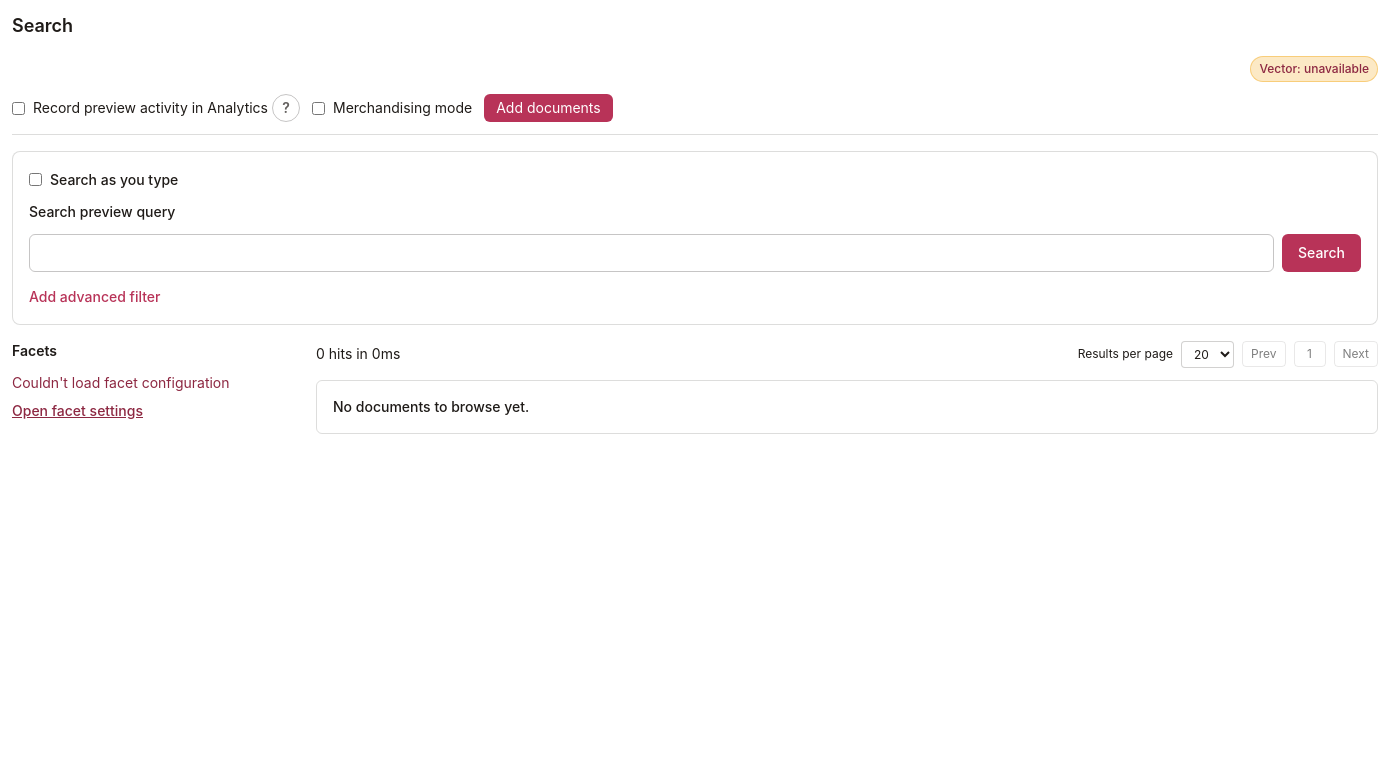
it: SearchTab › preserves merch mode ON across query re-renders
Click the checkbox labelled "Merchandising mode" at (318, 108), box [312,102,325,114]
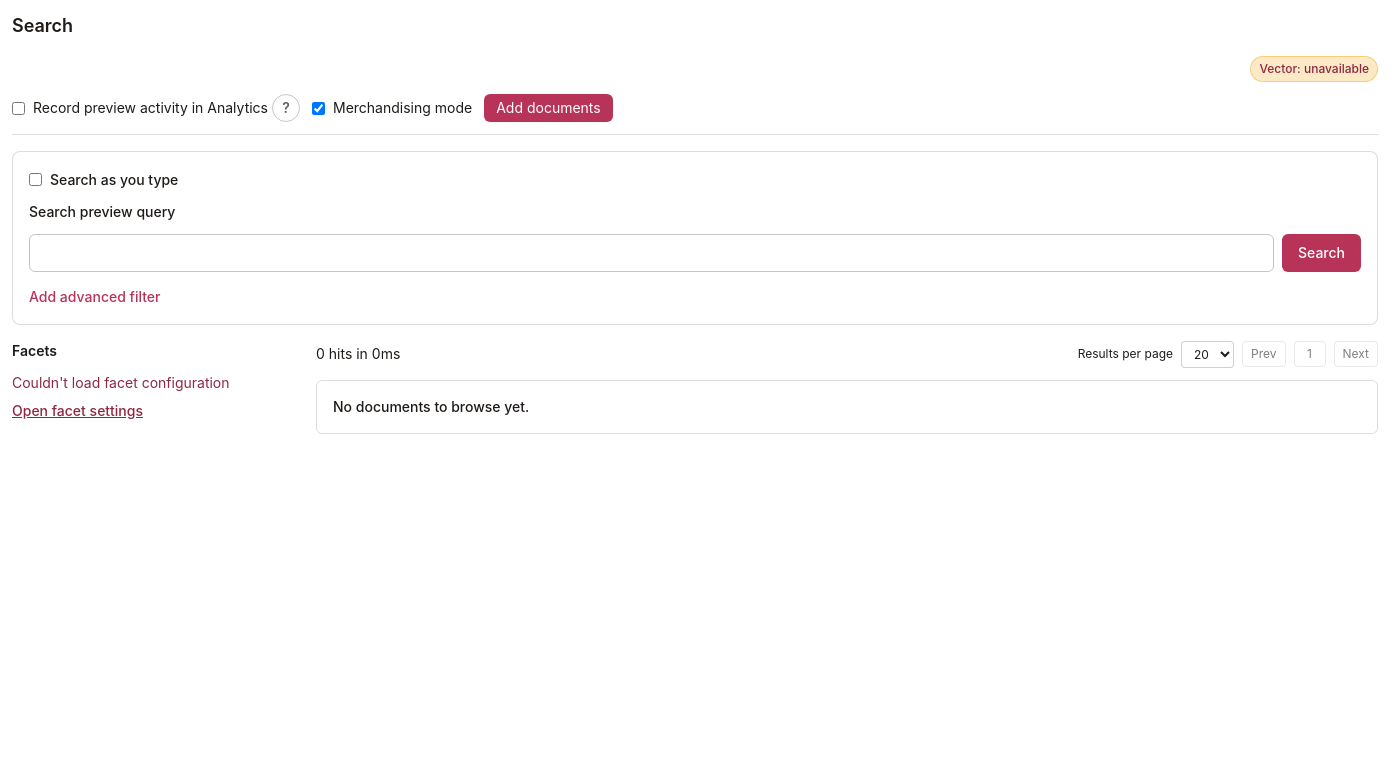
Type "first" into the search field labelled "Search preview query" at (652, 252), box [29,234,1274,272]
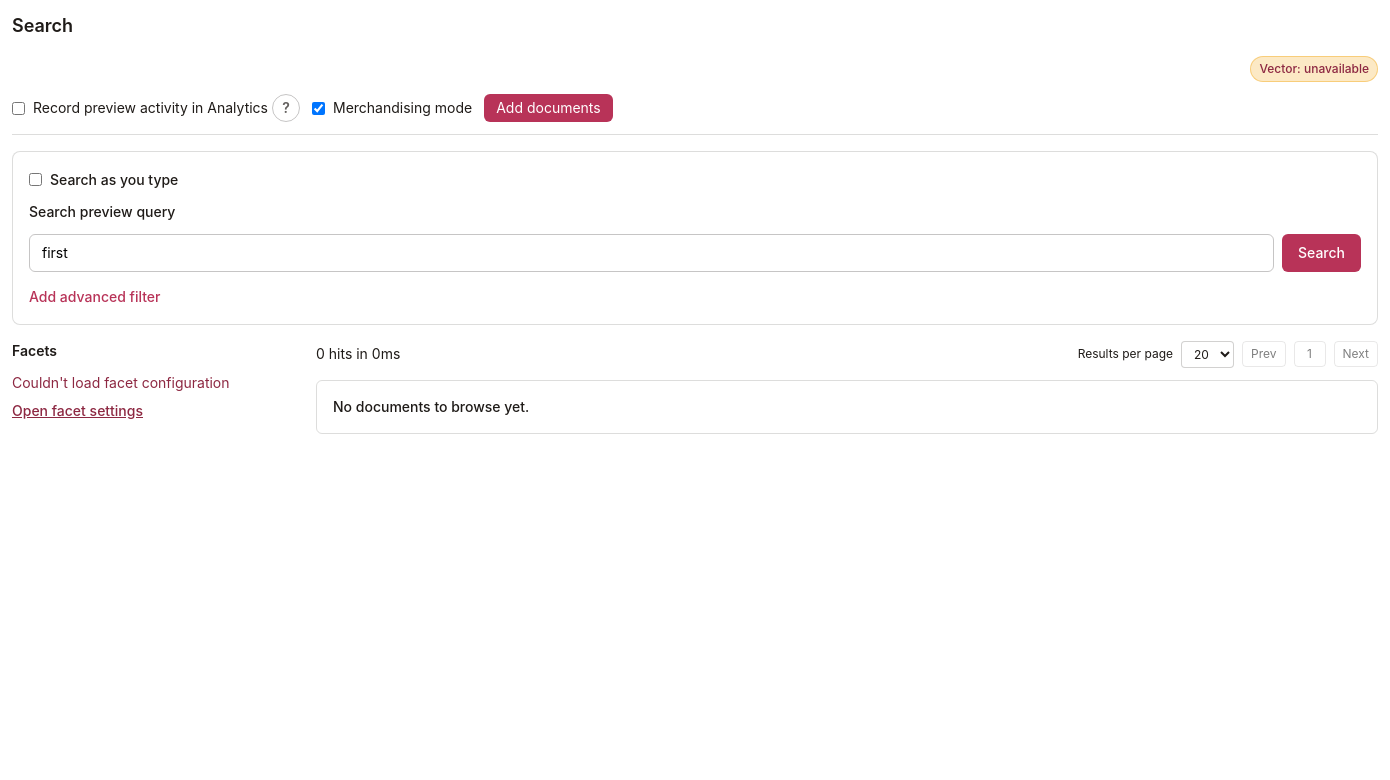
Press Enter in the search field labelled "Search preview query", box [29,234,1274,272]
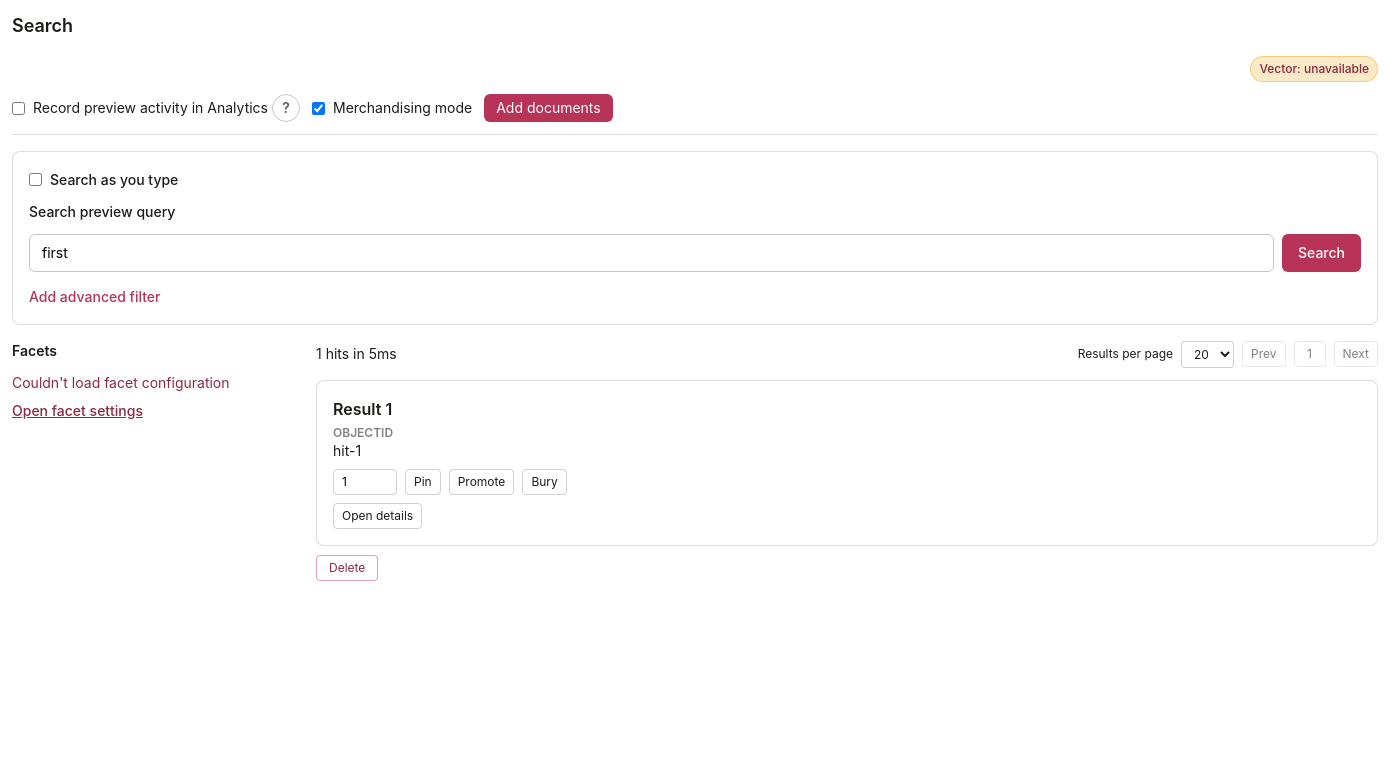
Check: the text "Result 1" is shown, box [333,398,392,418]
Check: the button with test id "card-merch-pin" is shown, box [405,468,441,494]
Replace the text in the search field labelled "Search preview query" with "second" at (652, 252), box [29,234,1274,272]
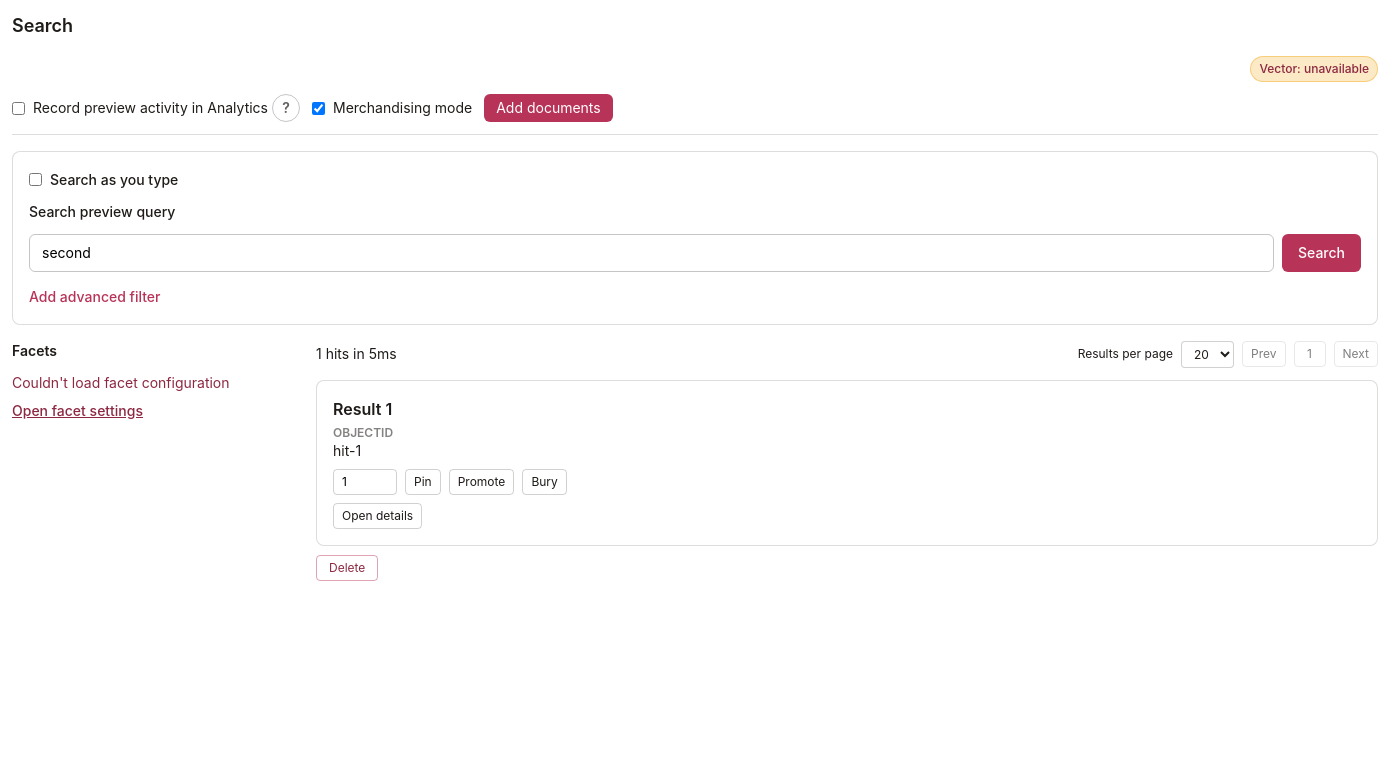
Press Enter in the search field labelled "Search preview query", box [29,234,1274,272]
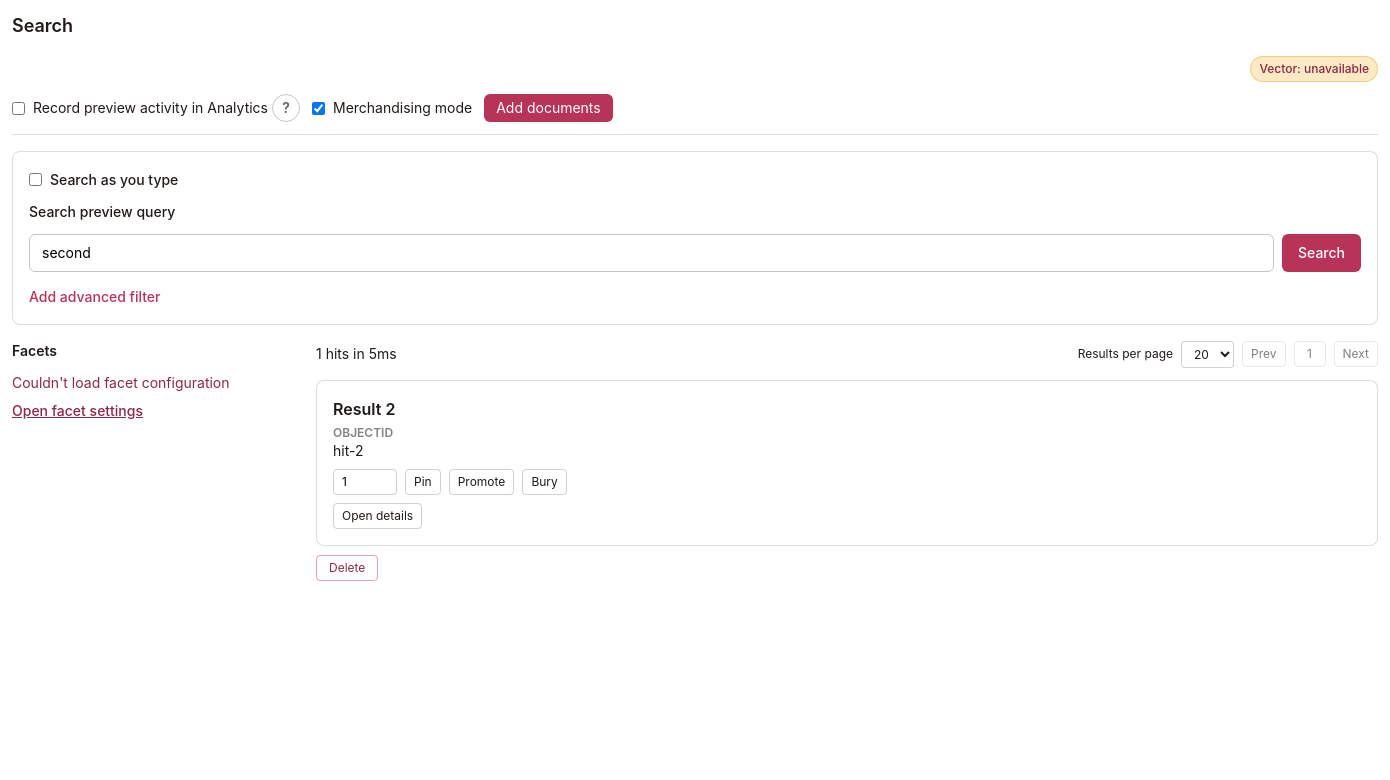
Check: the checkbox labelled "Merchandising mode" is checked, box [312,102,325,114]
Check: the button with test id "card-merch-pin" is shown, box [405,468,441,494]
Check: the text "Result 2" is shown, box [333,398,395,418]
